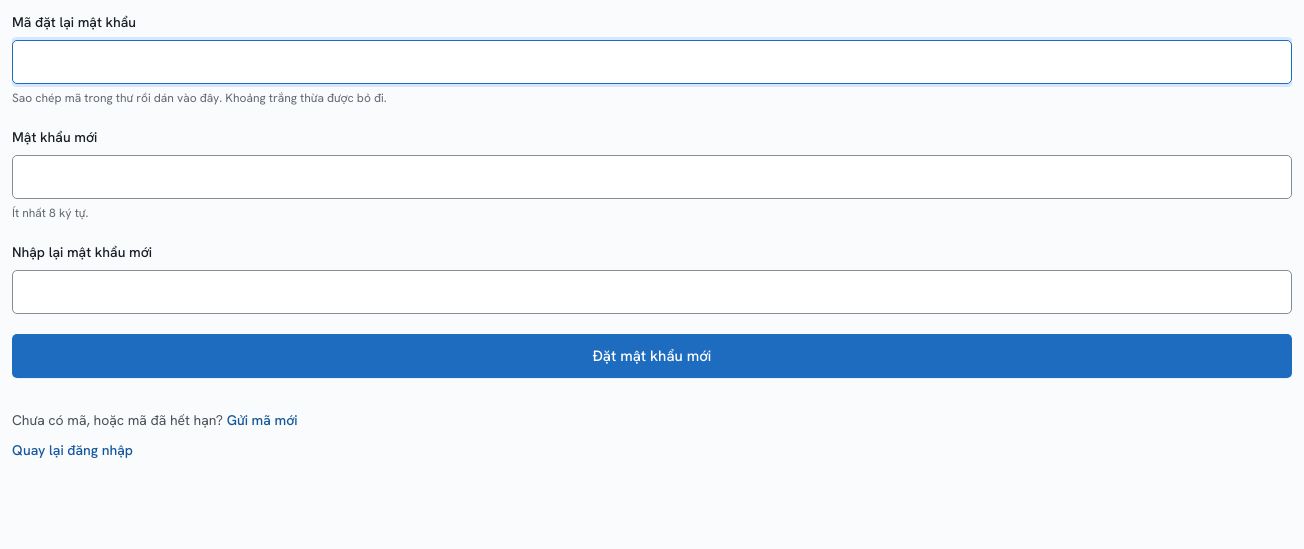
Test: password reset forms use the real client contract › keeps password fields when the server rejects an expired code
In the field labelled "Mã đặt lại mật khẩu": (652, 62) 12,40 -> 1292,84, type "expired-code"
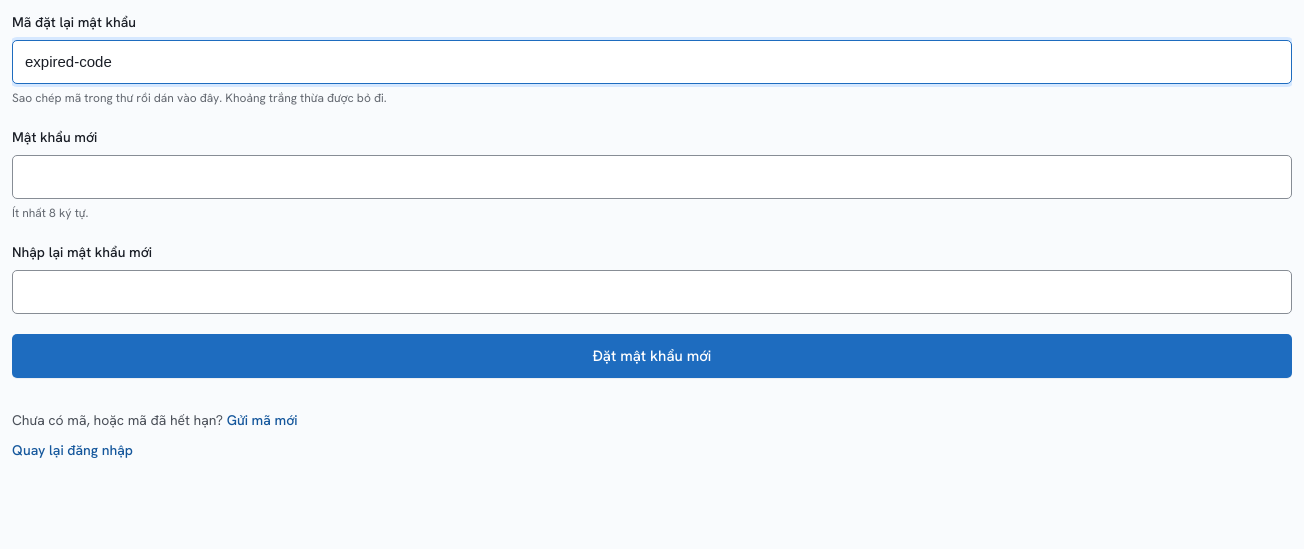
In the password field labelled "Mật khẩu mới": (652, 177) 12,155 -> 1292,199, type "New-password-123"
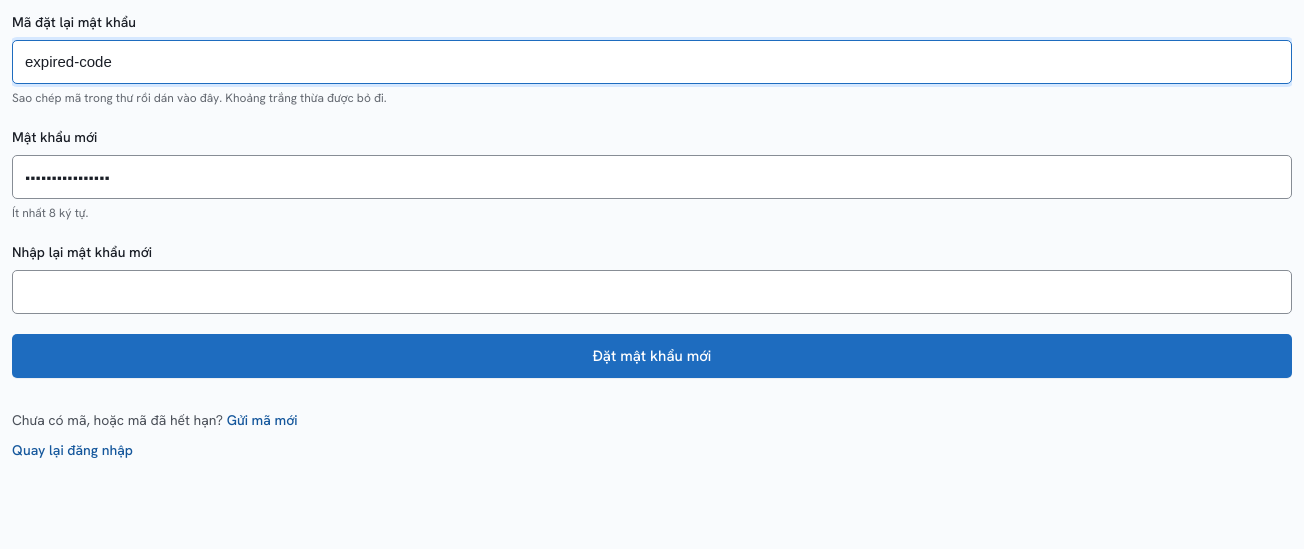
In the password field labelled "Nhập lại mật khẩu mới": (652, 292) 12,270 -> 1292,314, type "New-password-123"
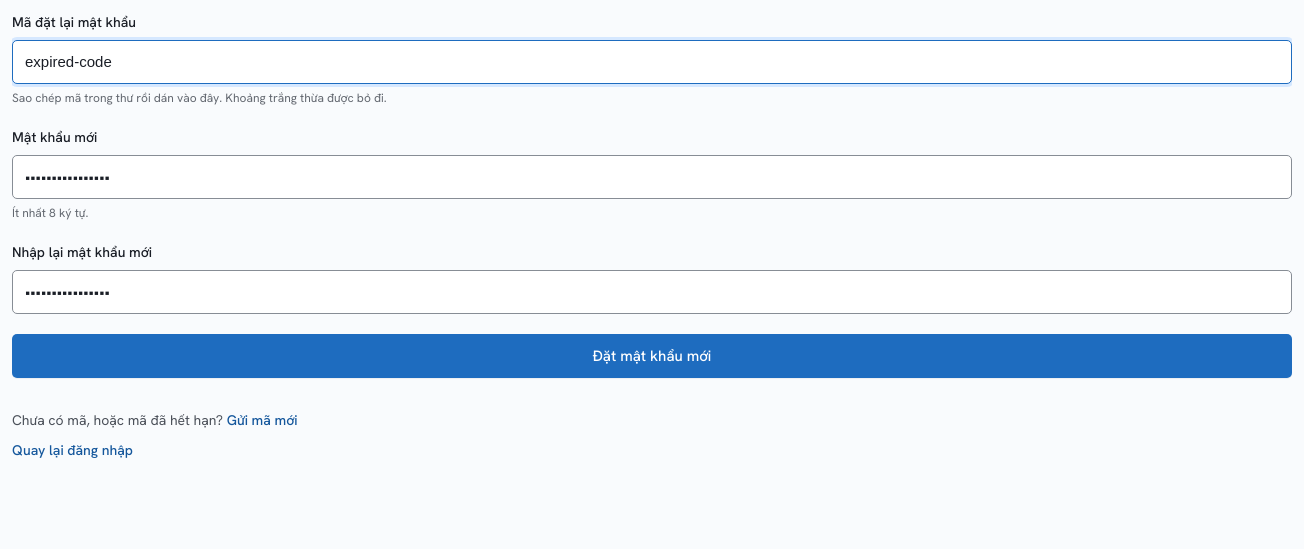
Click the button "Đặt mật khẩu mới": click(652, 356) 12,334 -> 1292,378
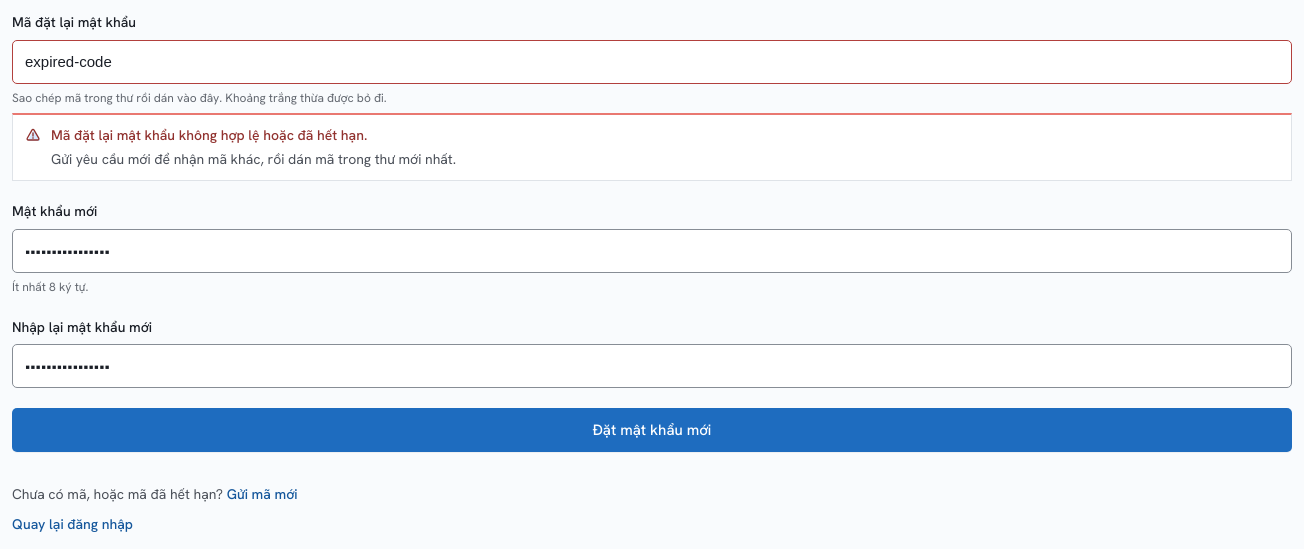
Now the text "Mã đặt lại mật khẩu không hợp lệ hoặc đã hết hạn." is shown, box 51,126 -> 367,144
